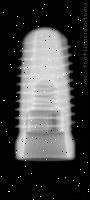Camlog: (15, 24, 76, 161)
